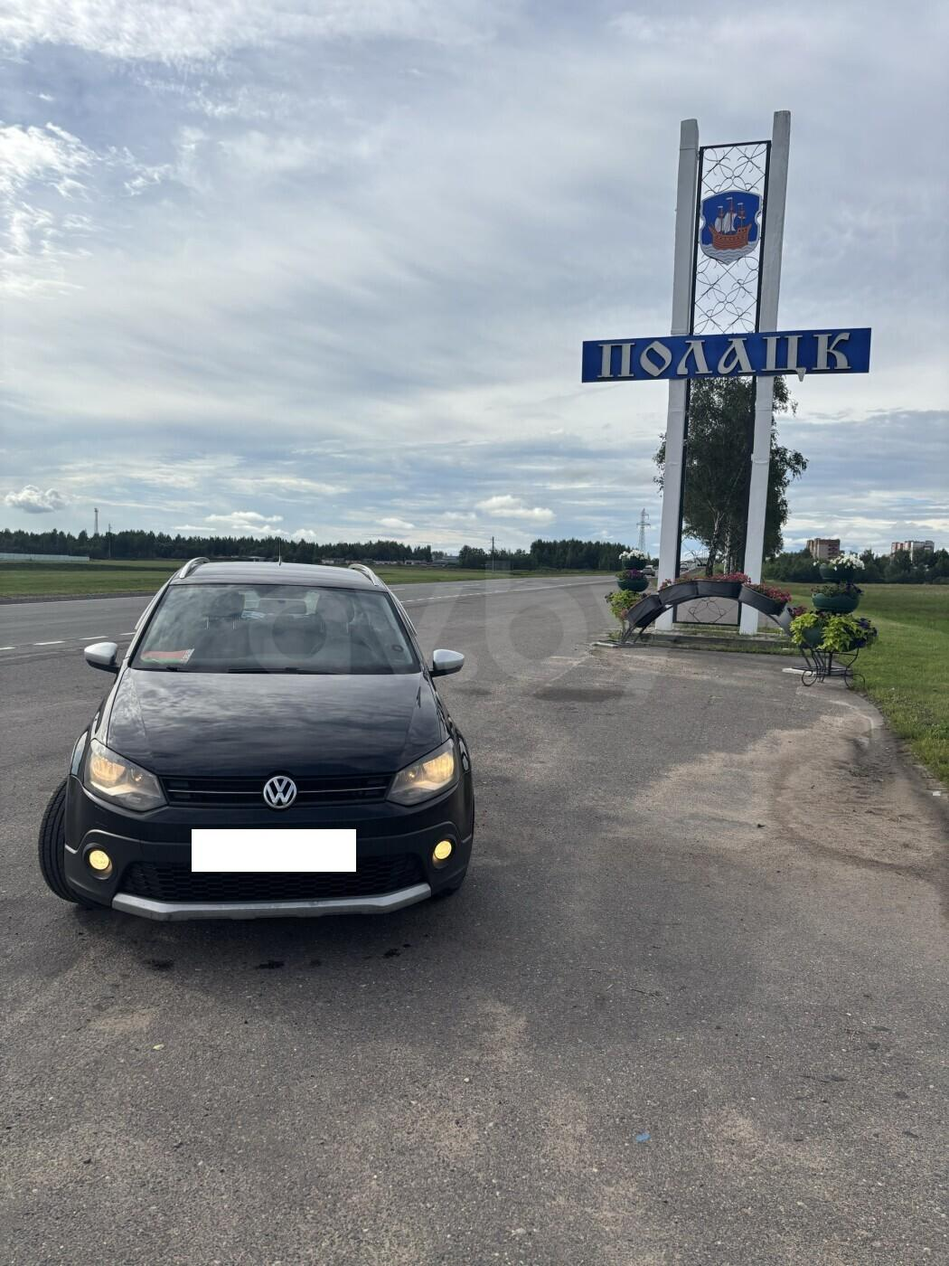Polo_2009-2015: (29, 517, 488, 963)
